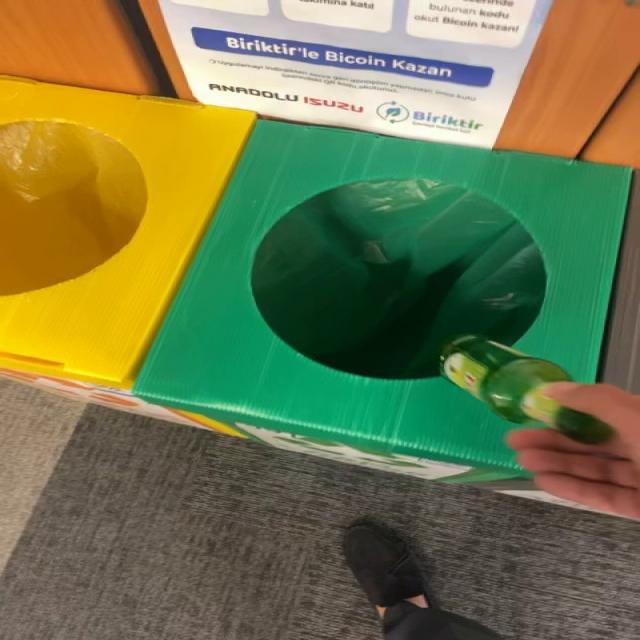glass: (441, 335, 615, 444)
